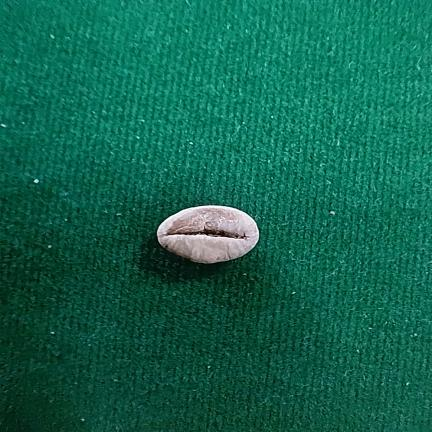immature: (157, 205, 259, 264)
